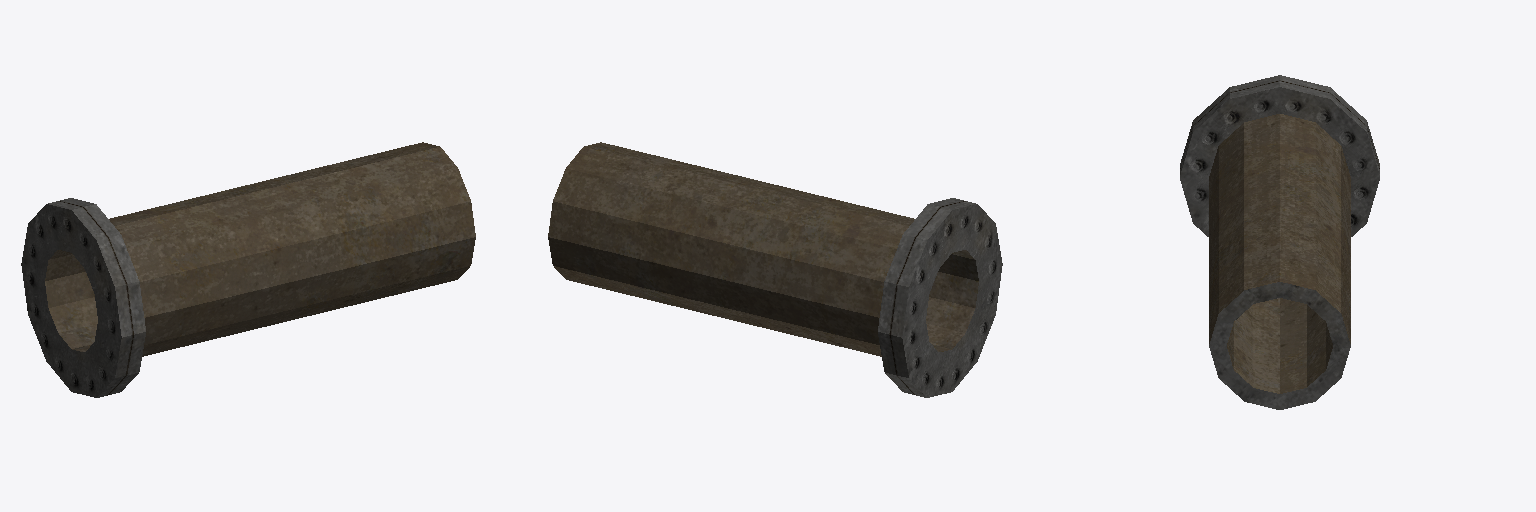
3 renders of one model, left to right at view 1: azimuth 30°, elevation 25°; view 2: azimuth 150°, elevation 25°; view 3: azimuth 270°, elevation 25°, orthographic.
Visible parts, largest first — view 1: short_endpiece_open; view 2: short_endpiece_open; view 3: short_endpiece_open.
Boxes of the visible parts, <box> form: short_endpiece_open: <box>21,142,475,397</box>; short_endpiece_open: <box>548,142,1002,397</box>; short_endpiece_open: <box>1180,75,1379,409</box>.
Size of the model in its own units: 1.5 by 0.7071 by 0.7071.
Materials: 1 (1 with a texture image).